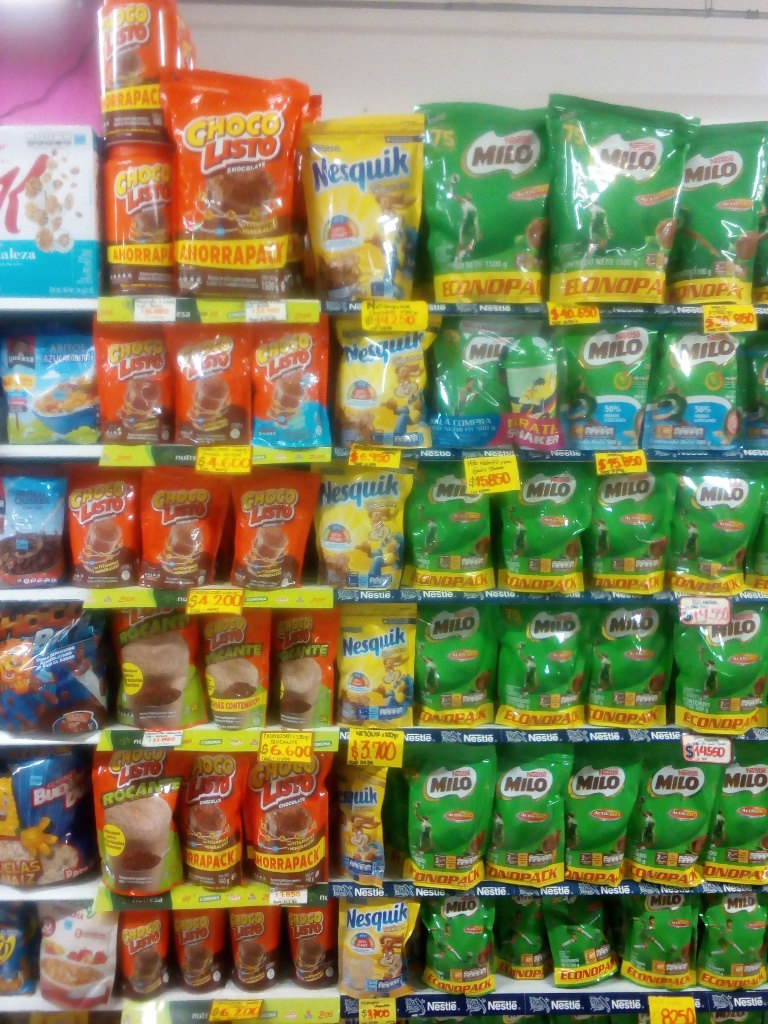COL0170102DYP25000: (273, 602, 342, 724)
COL0170102DYP50000: (109, 601, 212, 729)
COL0170103DYP1,500: (158, 63, 311, 296)
COL0170103DYP20000: (62, 463, 143, 589)
COL0170103DYP36000: (159, 319, 256, 444)
COL0170103DYP44000: (189, 751, 248, 886)
COL0170103TRR00100: (98, 140, 181, 294)
COL0170103TRR30000: (117, 910, 173, 999)
COL0170104DYP20000: (258, 330, 329, 446)
COL0170203DYP25000: (423, 898, 499, 994)
COL0170203DYP50000: (442, 313, 513, 450)
COL0170205DYP50000: (560, 335, 677, 442)
COL0170303DYP20000: (337, 605, 414, 730)
COL0170306DYP20000: (337, 894, 422, 1003)
